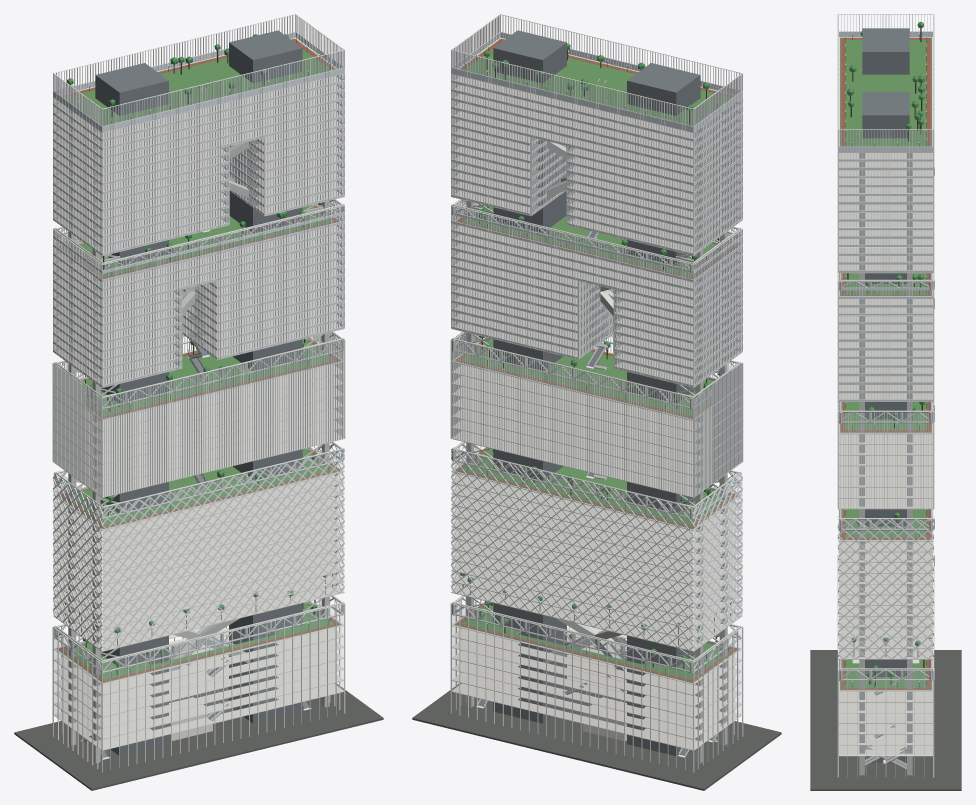
The model's file is the_stack.glb.
3 renders of one model, left to right at view 1: azimuth 30°, elevation 25°; view 2: azimuth 150°, elevation 25°; view 3: azimuth 270°, elevation 25°, orthographic. The views are drawn at different scales.
Parts seen in each view (by area): view 1: Web_Stack_Slabs_Dual, Web_Stack_Apartment_Frame, Web_Stack_Glass_Cool_Web_Dual, Web_Stack_Glass_Dark_Web_Dual, Web_Stack_Glass_Frost_Web_Dual, Web_Stack_Fin, Web_Stack_Spandrel_Blue, Web_Stack_Frame, Web_Stack_Core, Web_Stack_Lawn, Web_Stack_Core_Steel, Ground_Site (+3 smaller); view 2: Web_Stack_Slabs_Dual, Web_Stack_Apartment_Frame, Web_Stack_Glass_Cool_Web_Dual, Web_Stack_Glass_Dark_Web_Dual, Web_Stack_Glass_Frost_Web_Dual, Web_Stack_Fin, Web_Stack_Spandrel_Blue, Web_Stack_Frame, Web_Stack_Core, Web_Stack_Lawn, Web_Stack_Core_Steel, Ground_Site (+3 smaller); view 3: Web_Stack_Slabs_Dual, Web_Stack_Apartment_Frame, Web_Stack_Glass_Cool_Web_Dual, Web_Stack_Glass_Dark_Web_Dual, Ground_Site, Web_Stack_Lawn, Web_Stack_Core_Steel, Web_Stack_Glass_Frost_Web_Dual, Web_Stack_Spandrel_Blue, Web_Stack_Core, Web_Stack_Frame, Web_Stack_Fin (+4 smaller).
Boxes of the visible parts, box(x1,y1,x2,y2) form: Web_Stack_Slabs_Dual: box(53, 37, 344, 749); Web_Stack_Apartment_Frame: box(52, 14, 345, 772); Web_Stack_Glass_Cool_Web_Dual: box(53, 340, 343, 650); Web_Stack_Glass_Dark_Web_Dual: box(53, 51, 343, 384); Web_Stack_Glass_Frost_Web_Dual: box(53, 604, 343, 749); Web_Stack_Fin: box(52, 332, 345, 497); Web_Stack_Spandrel_Blue: box(53, 32, 344, 387); Web_Stack_Frame: box(52, 86, 344, 759); Web_Stack_Core: box(83, 30, 309, 757); Web_Stack_Lawn: box(56, 38, 341, 682); Web_Stack_Core_Steel: box(54, 109, 344, 763); Ground_Site: box(14, 683, 383, 790); Web_Stack_Slabs_Dual: box(451, 37, 742, 749); Web_Stack_Apartment_Frame: box(450, 14, 743, 772); Web_Stack_Glass_Cool_Web_Dual: box(452, 341, 742, 650); Web_Stack_Glass_Dark_Web_Dual: box(452, 51, 742, 384); Web_Stack_Glass_Frost_Web_Dual: box(452, 605, 742, 749); Web_Stack_Fin: box(450, 332, 743, 497); Web_Stack_Spandrel_Blue: box(451, 32, 742, 387); Web_Stack_Frame: box(451, 78, 743, 757); Web_Stack_Core: box(477, 30, 724, 755); Web_Stack_Lawn: box(454, 38, 739, 682); Web_Stack_Core_Steel: box(451, 109, 741, 763); Ground_Site: box(412, 683, 781, 790); Web_Stack_Slabs_Dual: box(838, 37, 933, 755); Web_Stack_Apartment_Frame: box(837, 14, 934, 777); Web_Stack_Glass_Cool_Web_Dual: box(839, 413, 932, 658); Web_Stack_Glass_Dark_Web_Dual: box(839, 130, 932, 399); Ground_Site: box(810, 650, 961, 790); Web_Stack_Lawn: box(840, 37, 931, 690); Web_Stack_Core_Steel: box(838, 153, 934, 775); Web_Stack_Glass_Frost_Web_Dual: box(839, 670, 932, 755); Web_Stack_Spandrel_Blue: box(839, 32, 932, 401); Web_Stack_Core: box(862, 28, 909, 770); Web_Stack_Frame: box(837, 91, 934, 769); Web_Stack_Fin: box(837, 402, 934, 509).
Size of what is drawn, in the model's own units: 139 by 303 by 64.
